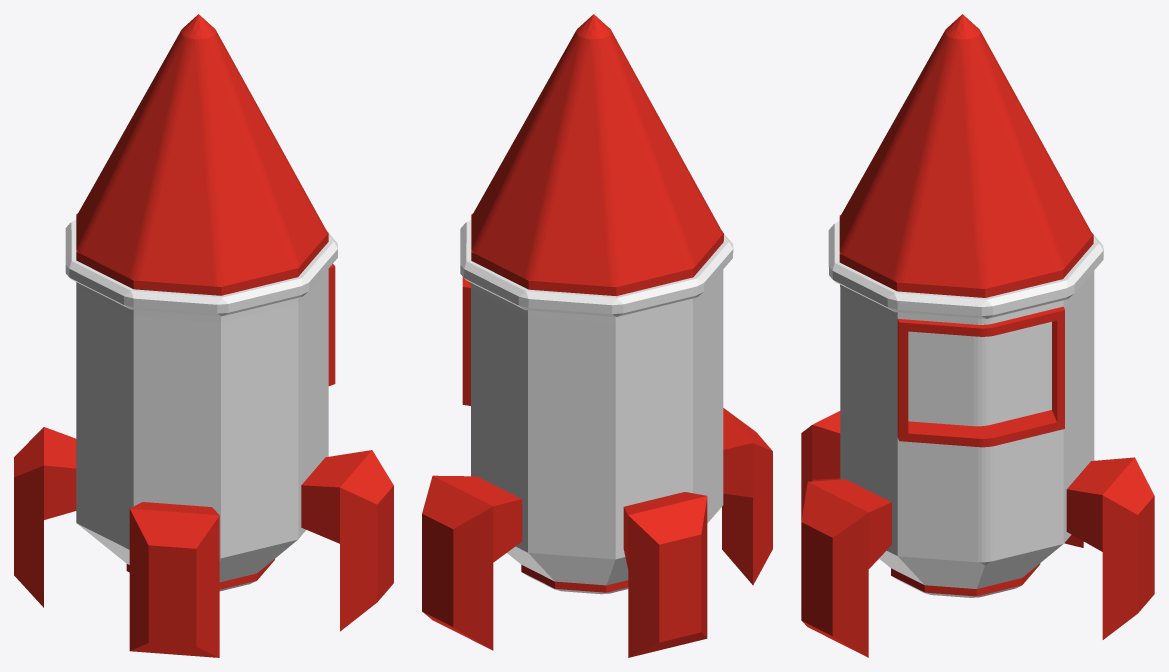
File: rocket.glb
3 renders of one model, left to right at view 1: azimuth 30°, elevation 25°; view 2: azimuth 150°, elevation 25°; view 3: azimuth 270°, elevation 25°, orthographic.
Visible parts, largest first — view 1: Cylinder; view 2: Cylinder; view 3: Cylinder.
Part boxes in pixels (left/top/right/bottom): Cylinder: left=14, top=14, right=393, bottom=657; Cylinder: left=422, top=14, right=772, bottom=657; Cylinder: left=801, top=14, right=1154, bottom=657.
Bounding box in the file's own units: 2.46 × 4.9 × 2.7.
